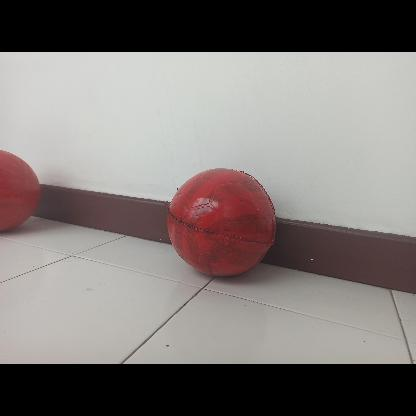red_ball: (170, 166, 278, 274)
